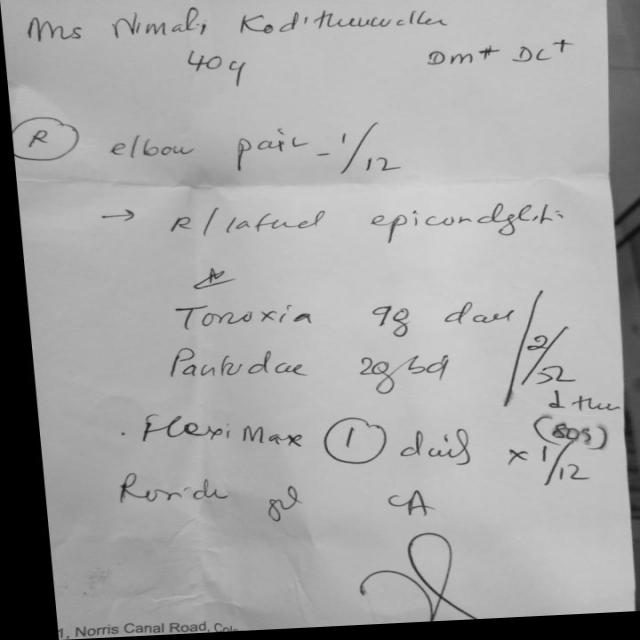Prescription: (120, 408, 596, 504), (96, 470, 460, 530), (164, 290, 518, 342), (145, 346, 451, 396)
